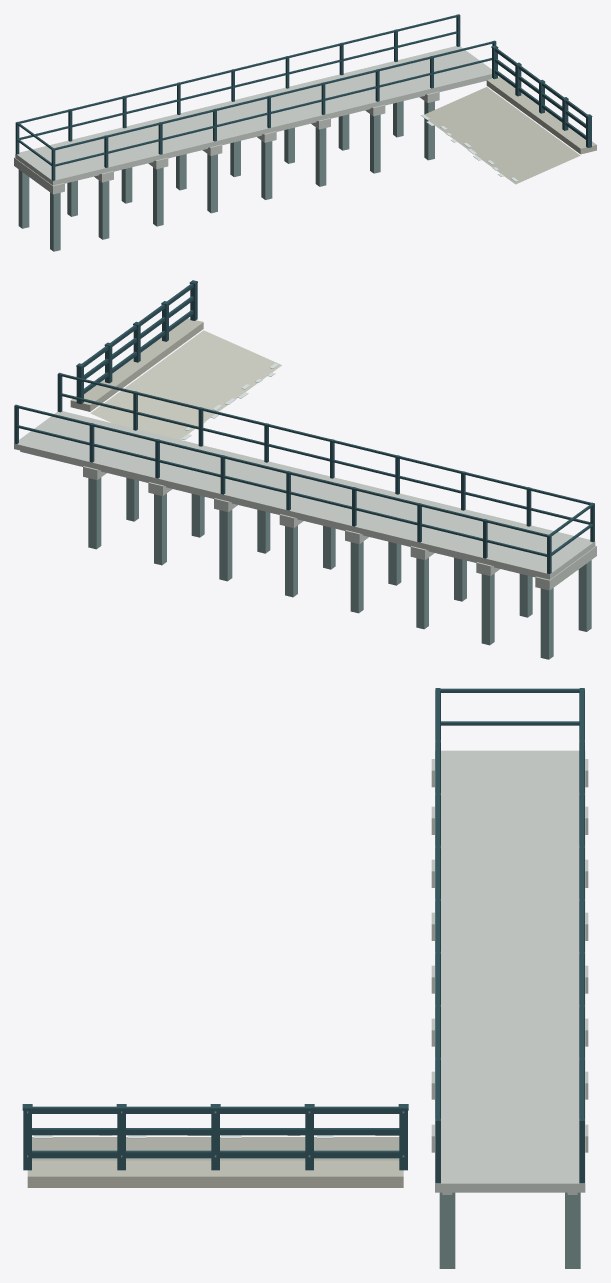
The model's file is nishi-photo-overlook.glb.
3 renders of one model, top to bottom at view 1: azimuth 30°, elevation 25°; view 2: azimuth 150°, elevation 25°; view 3: azimuth 270°, elevation 25°, orthographic. The views are drawn at different scales.
Visible parts, largest first — view 1: Ground-standard-deck, Shore-pitch-0, Shore-pitch-1, Shore-pitch-2, Portrait-low-plinth, Pier-horizontal-rail.003, Pier-horizontal-rail.001, Pier-horizontal-rail.002, Pier-horizontal-rail, Bearing-pile-06.003, Bearing-pile-03.003, Bearing-pile-02.003 (+15 smaller); view 2: Ground-standard-deck, Shore-pitch-0, Shore-pitch-1, Shore-pitch-2, Portrait-low-plinth, Pier-horizontal-rail.001, Pier-horizontal-rail.003, Pier-horizontal-rail, Pier-horizontal-rail.002, Bearing-pile-07, Bearing-pile-00, Bearing-pile-02 (+15 smaller); view 3: Ground-standard-deck, Portrait-low-plinth, Shore-pitch-2, Pier-horizontal-rail.001, Shore-pitch-1, Pier-horizontal-rail.003, Bearing-pile-00.003, Bearing-pile-00, Portrait-horizontal-rail, Portrait-horizontal-rail.003, Portrait-horizontal-rail.006, Portrait-horizontal-rail.009.
Part boxes in pixels (<box>): Ground-standard-deck: <box>15,46,492,185</box>; Shore-pitch-0: <box>465,87,580,164</box>; Shore-pitch-1: <box>443,96,558,174</box>; Shore-pitch-2: <box>424,106,536,184</box>; Portrait-low-plinth: <box>486,77,596,154</box>; Pier-horizontal-rail.003: <box>51,41,495,150</box>; Pier-horizontal-rail.001: <box>15,14,459,124</box>; Pier-horizontal-rail.002: <box>51,58,491,166</box>; Pier-horizontal-rail: <box>15,31,457,140</box>; Bearing-pile-06.003: <box>98,185,109,239</box>; Bearing-pile-03.003: <box>261,146,272,199</box>; Bearing-pile-02.003: <box>315,132,326,186</box>; Ground-standard-deck: <box>14,411,595,579</box>; Shore-pitch-0: <box>90,330,229,424</box>; Shore-pitch-1: <box>117,342,255,431</box>; Shore-pitch-2: <box>149,353,281,439</box>; Portrait-low-plinth: <box>70,318,203,411</box>; Pier-horizontal-rail.001: <box>14,404,551,537</box>; Pier-horizontal-rail.003: <box>58,373,594,505</box>; Pier-horizontal-rail: <box>17,425,551,557</box>; Pier-horizontal-rail.002: <box>61,393,594,525</box>; Bearing-pile-07: <box>540,594,553,659</box>; Bearing-pile-00: <box>88,484,101,549</box>; Bearing-pile-02: <box>219,516,232,581</box>; Ground-standard-deck: <box>435,750,585,1192</box>; Portrait-low-plinth: <box>27,1160,403,1187</box>; Shore-pitch-2: <box>32,1137,399,1149</box>; Pier-horizontal-rail.001: <box>580,688,584,1123</box>; Shore-pitch-1: <box>32,1149,399,1160</box>; Pier-horizontal-rail.003: <box>436,688,439,1123</box>; Bearing-pile-00.003: <box>439,1192,455,1268</box>; Bearing-pile-00: <box>565,1192,580,1268</box>; Portrait-horizontal-rail: <box>314,1150,399,1158</box>; Portrait-horizontal-rail.003: <box>220,1150,305,1158</box>; Portrait-horizontal-rail.006: <box>126,1150,211,1158</box>; Portrait-horizontal-rail.009: <box>32,1150,117,1158</box>.
Size of the model in its own units: 16.37 by 3.74 by 9.03.
